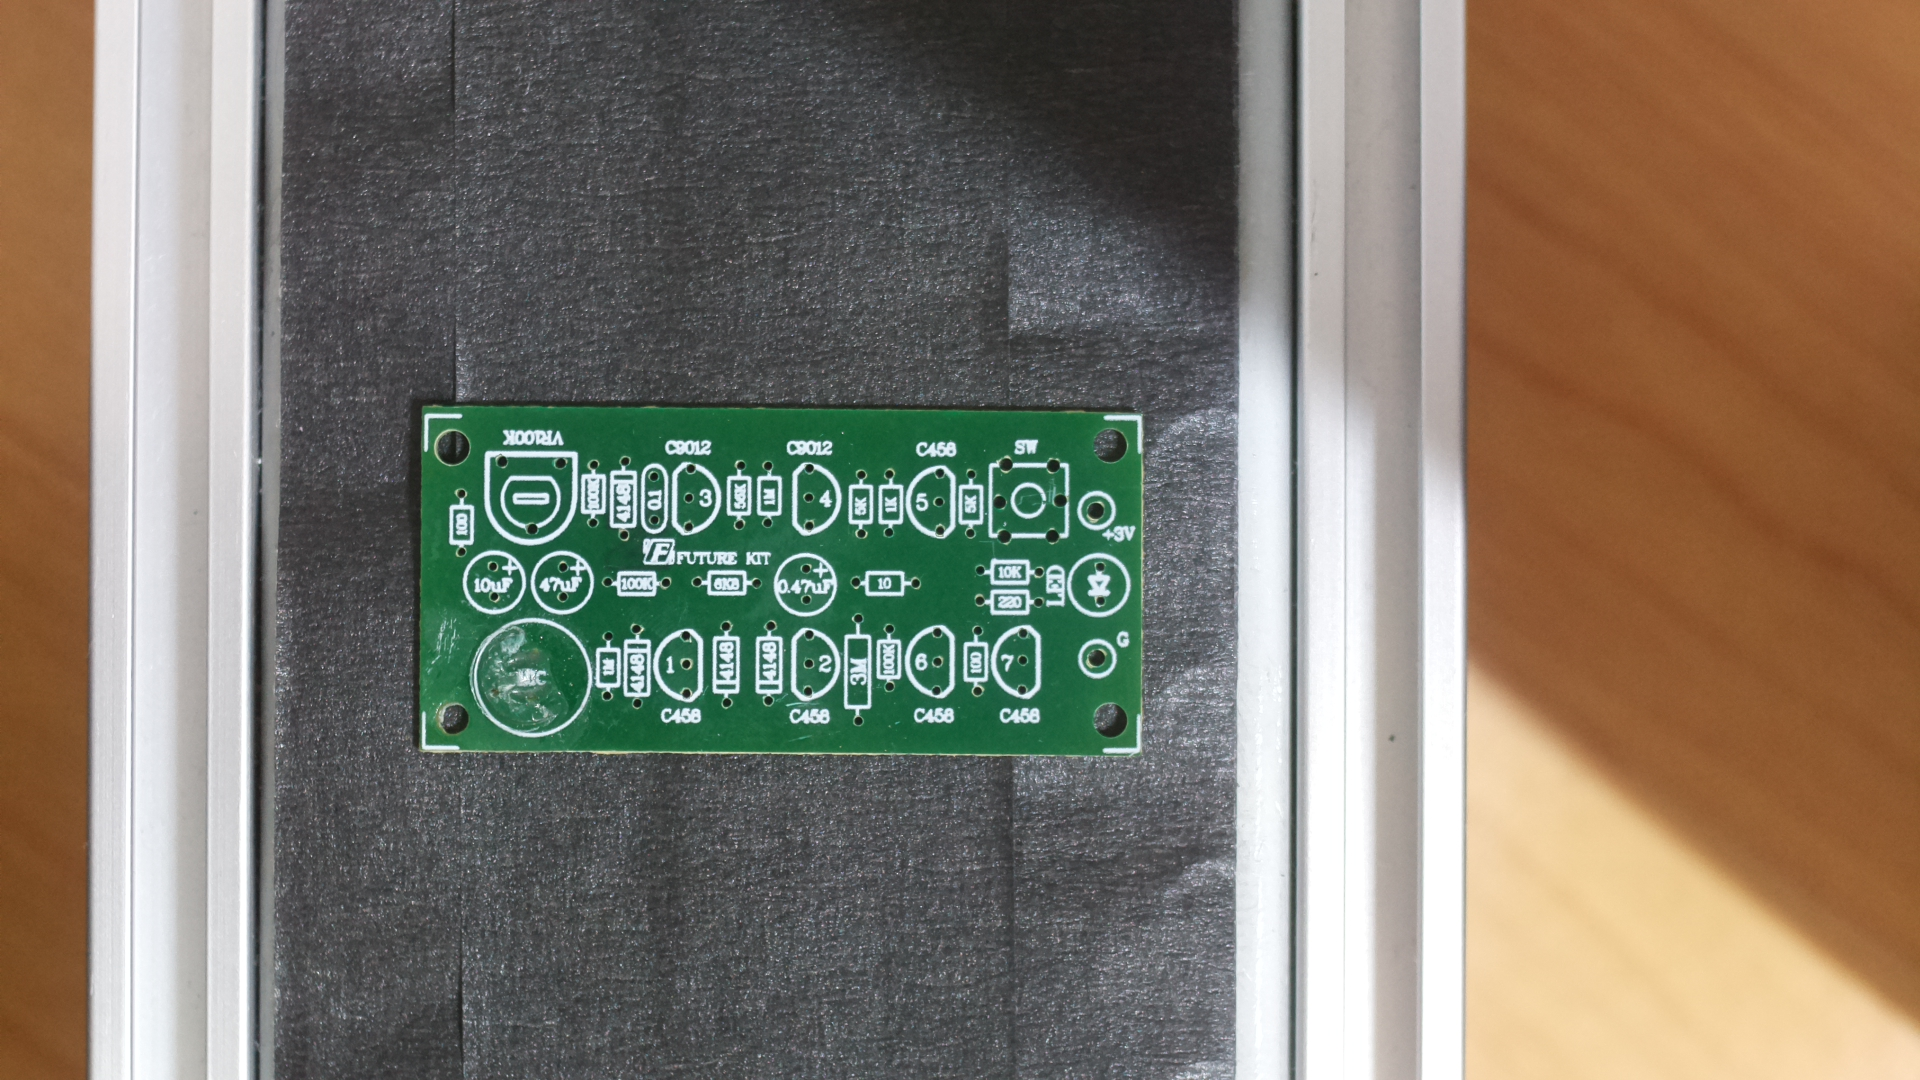A_Missing_part: (415, 394, 1159, 778)
